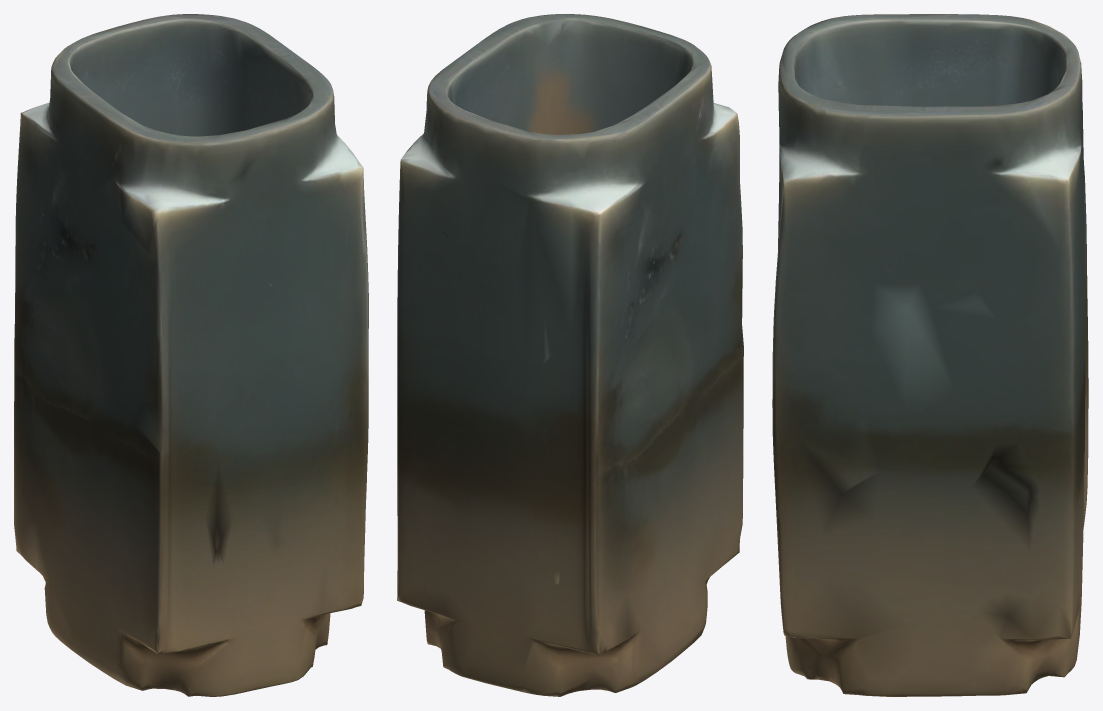
File: qijia-plain-roaming.glb
3 views of the same model, side by side, from view 1: azimuth 30°, elevation 25°; view 2: azimuth 150°, elevation 25°; view 3: azimuth 270°, elevation 25° (orthographic). The views are drawn at different scales.
Parts seen in each view (by area): view 1: node_0; view 2: node_0; view 3: node_0.
Part boxes in pixels (x1,y1,x2,y2): node_0: (14,14,368,696); node_0: (397,14,743,696); node_0: (772,14,1088,696).
Bounding box in the file's own units: 0.4342 × 1.09 × 0.5286.
1 material, 1 textured.
